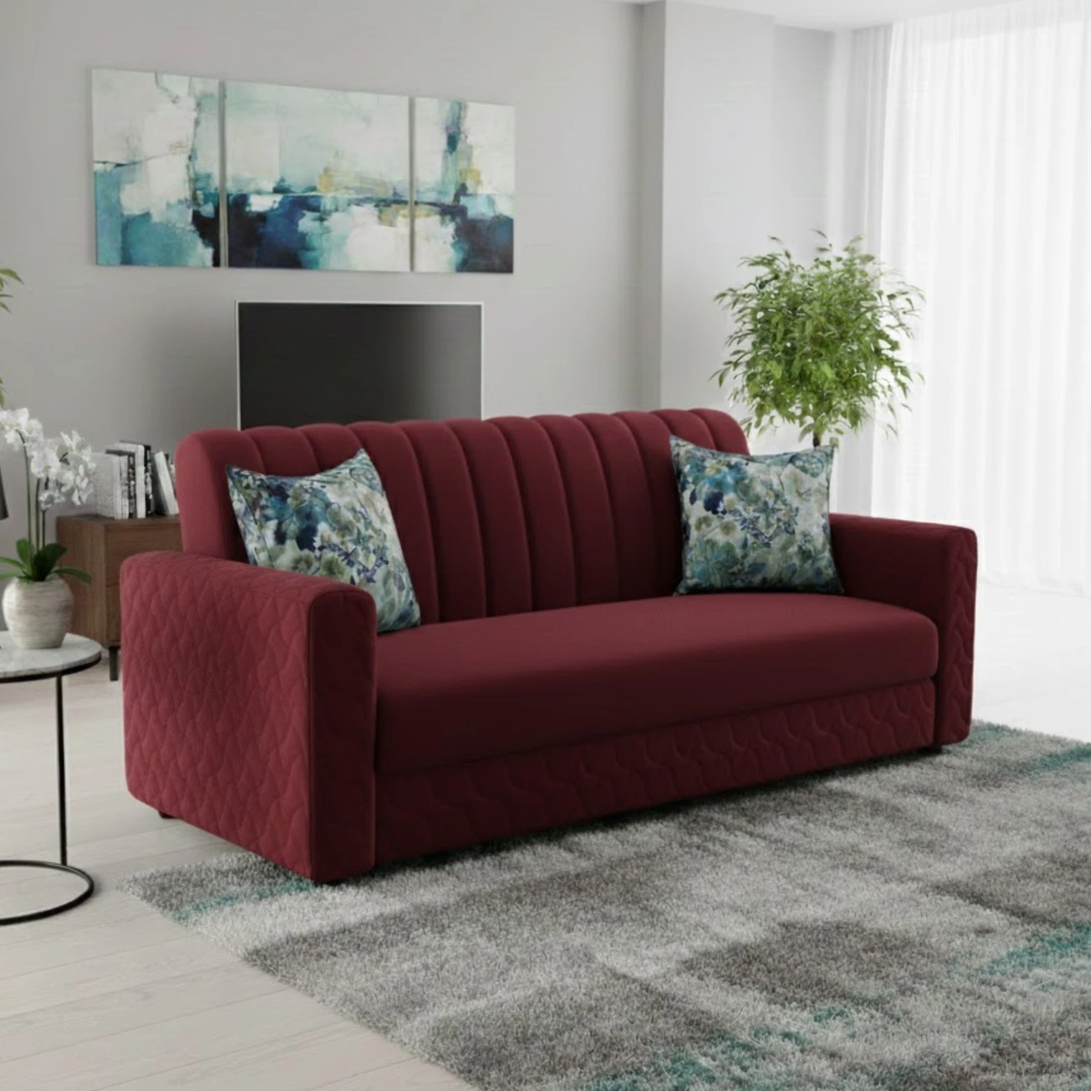3seatersofa: (121, 409, 976, 882)
backrest: (178, 410, 744, 628)
base: (376, 686, 932, 865)
leftarmrest: (832, 515, 977, 743)
pillow: (227, 451, 420, 631), (671, 436, 841, 593)
rightarmrest: (122, 552, 375, 881)
seat: (378, 596, 935, 772)
